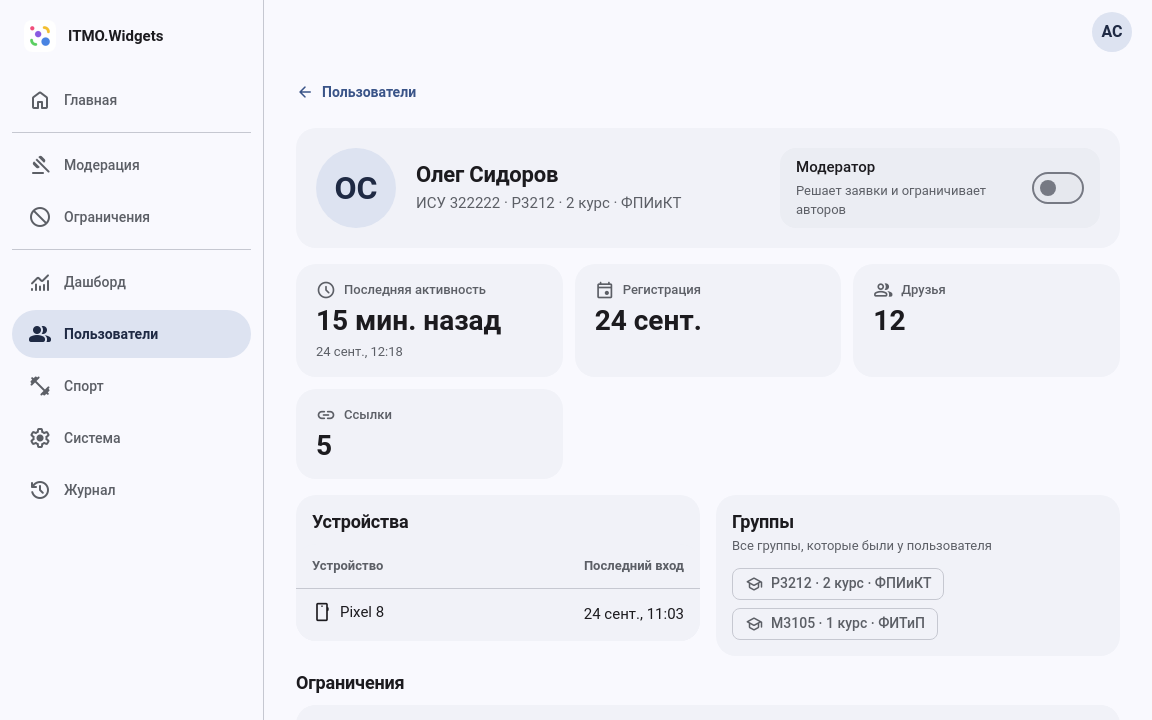
it: UserPage › makes a user a moderator after confirmation
Click the switch named "Модератор": {"x": 1058, "y": 188} [1032,172,1084,204]
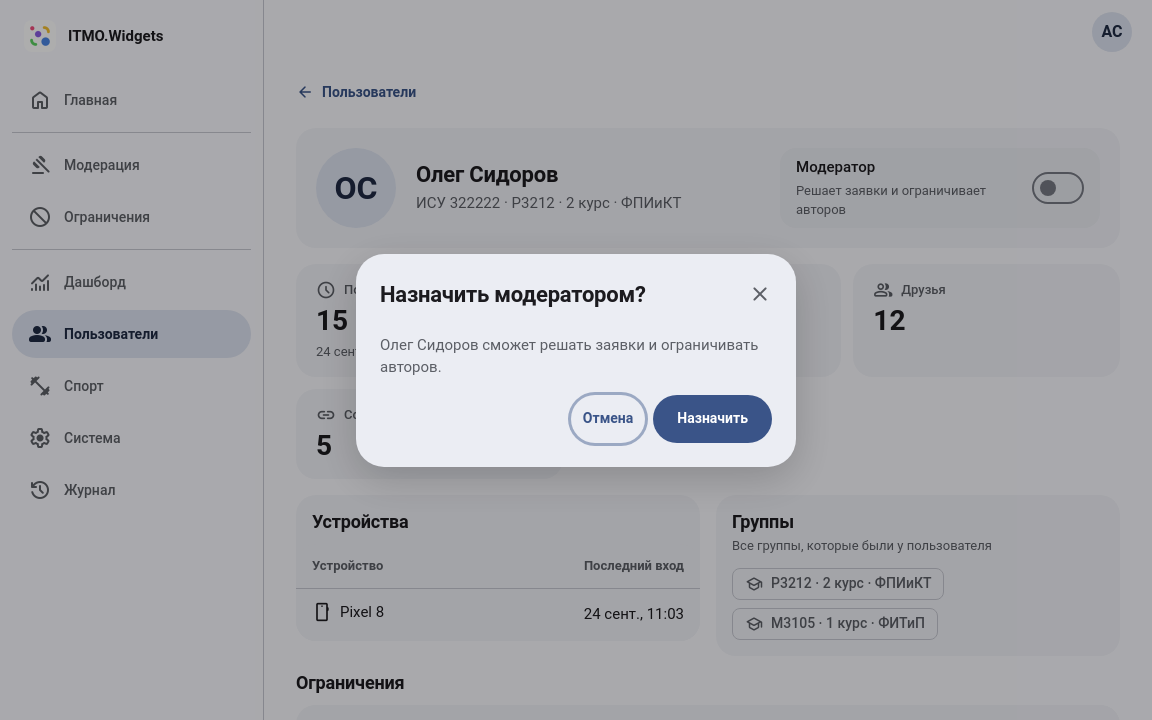
Click the button "Назначить": {"x": 713, "y": 418} [653,394,772,442]
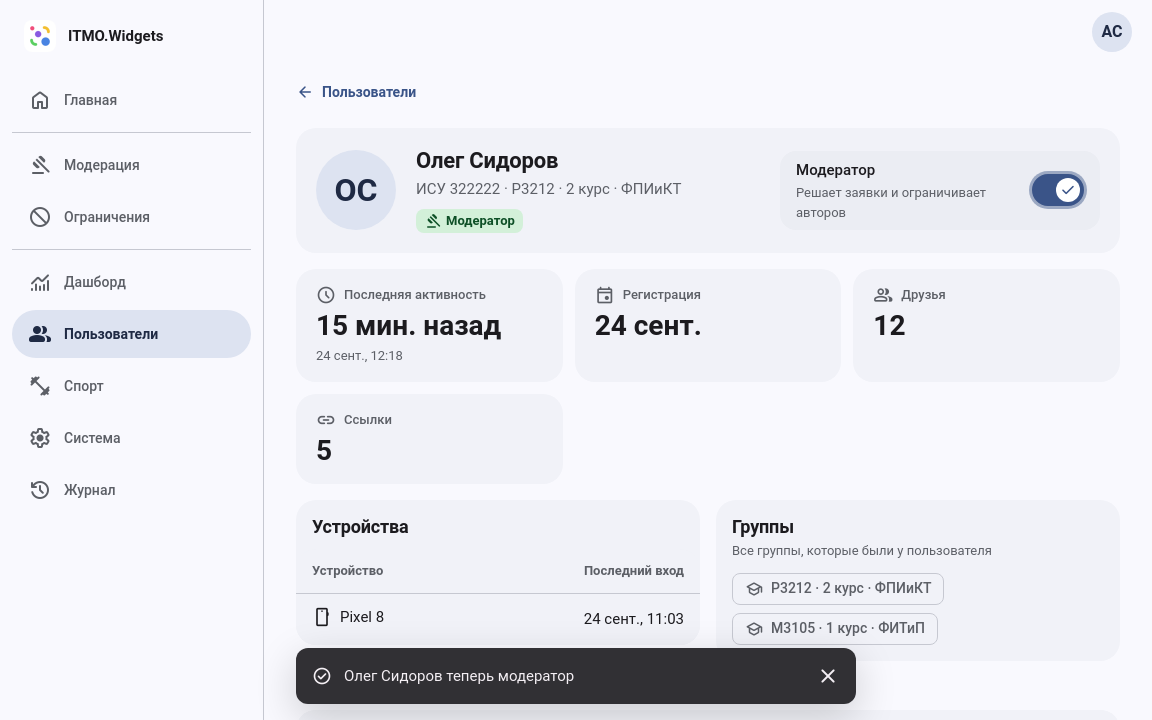
Expected: the switch named "Модератор" is checked, [1032,174,1084,206]
Expected: the text "Олег Сидоров теперь модератор" is shown, [344,667,574,685]
